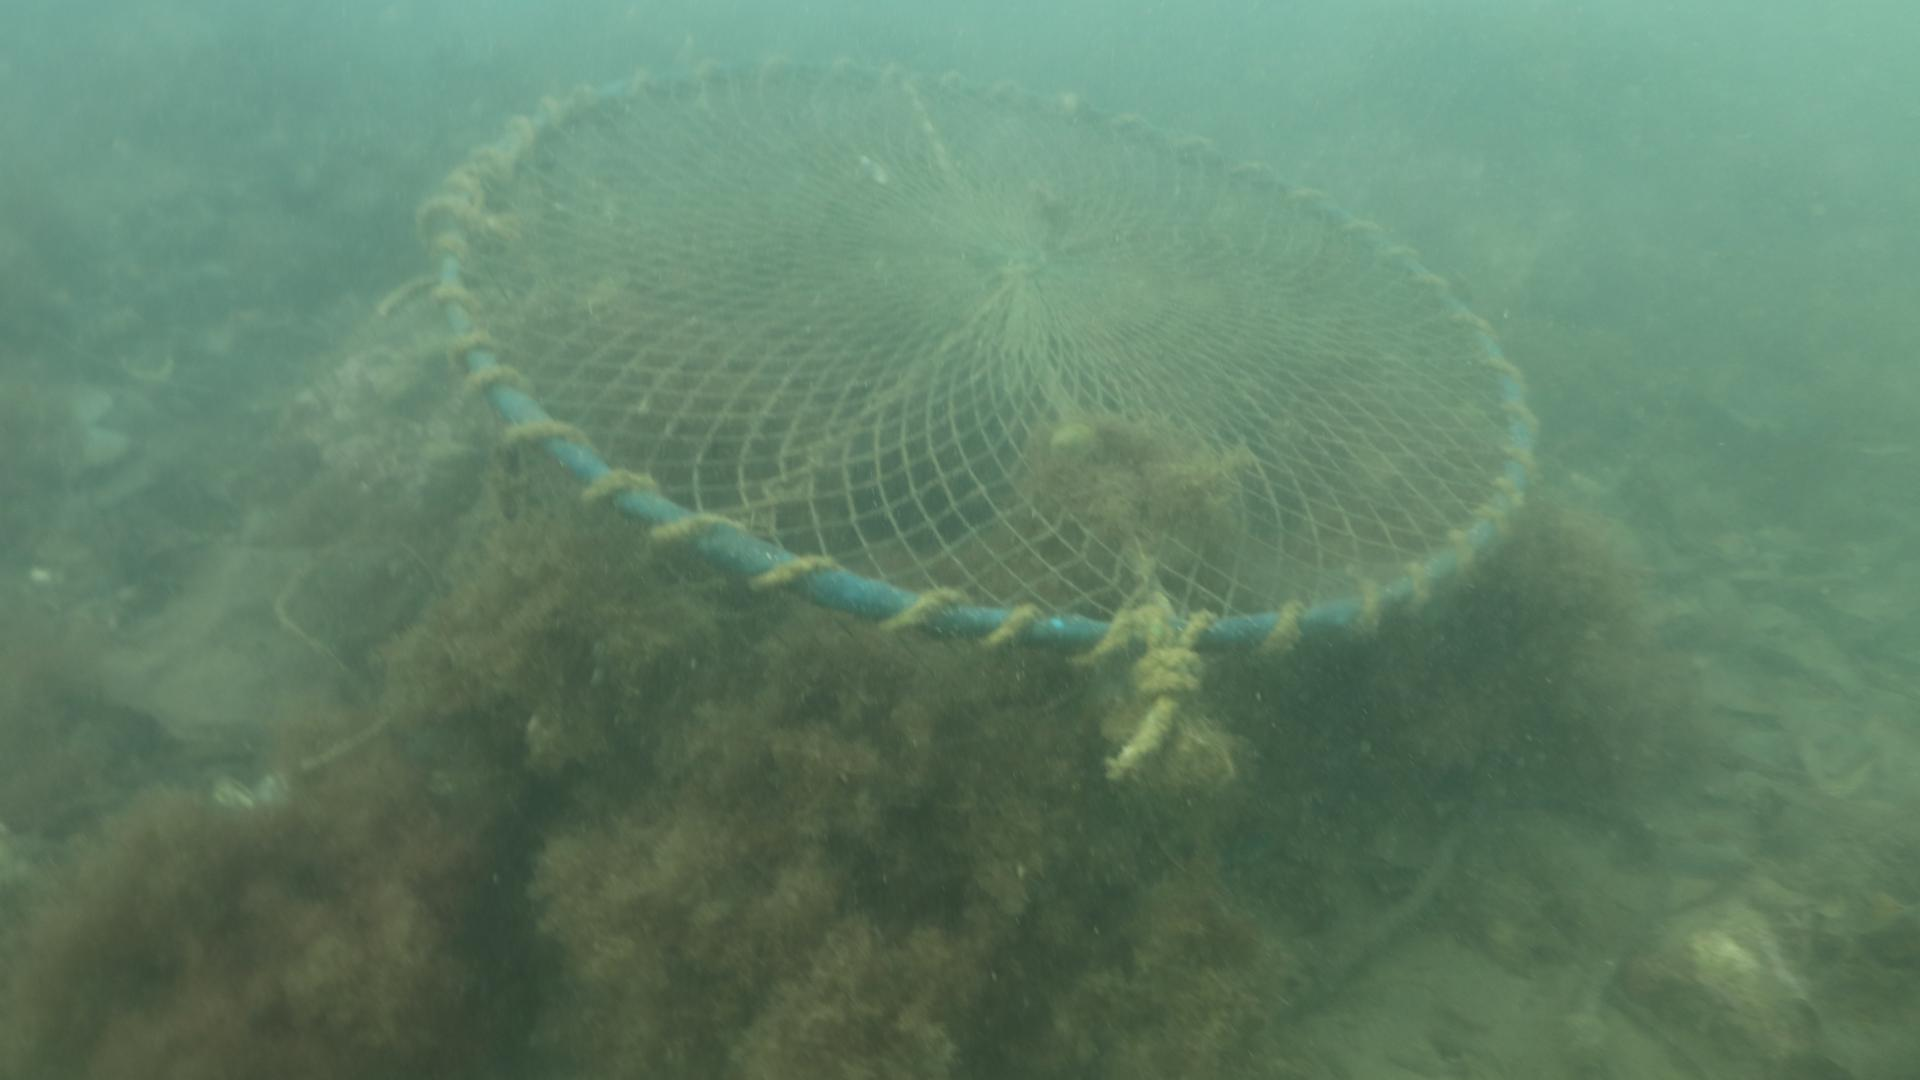circular fish trap: (414, 50, 1535, 651)
